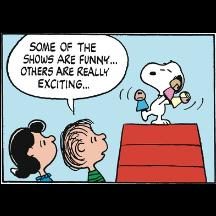snoopy: (133, 58, 191, 126)
